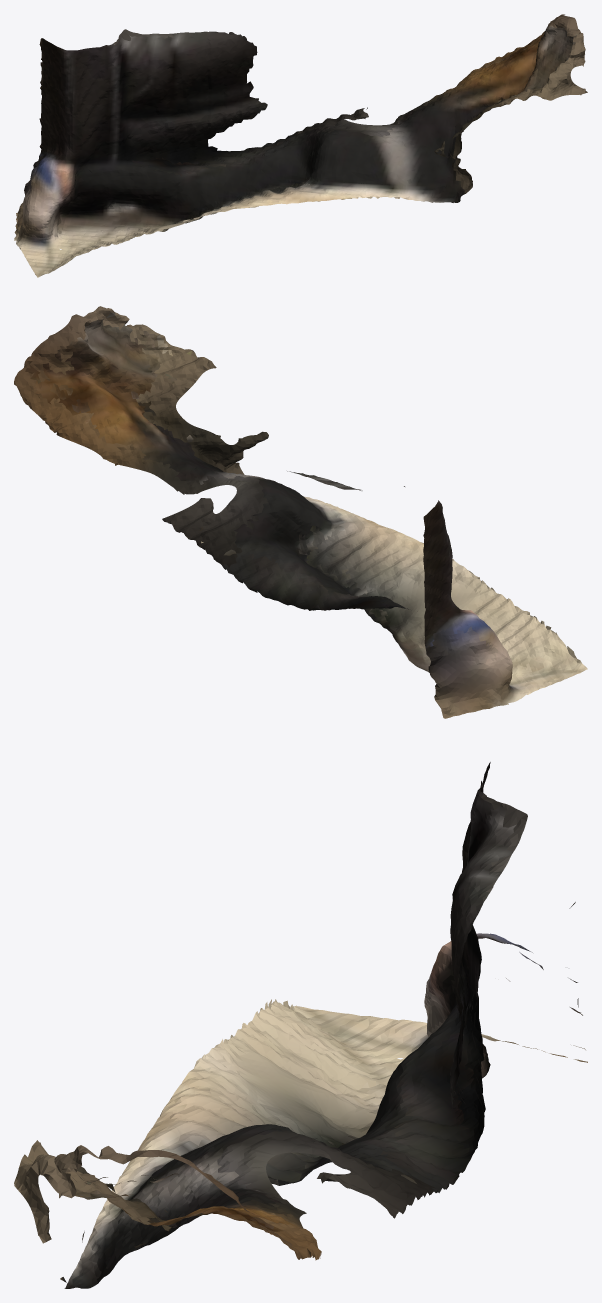
3 renders of one model, top to bottom at view 1: azimuth 30°, elevation 25°; view 2: azimuth 150°, elevation 25°; view 3: azimuth 270°, elevation 25°, orthographic. The views are drawn at different scales.
Size of the model in its own units: 1.53 by 0.4887 by 0.7571.
Materials: 1 (1 with a texture image).
